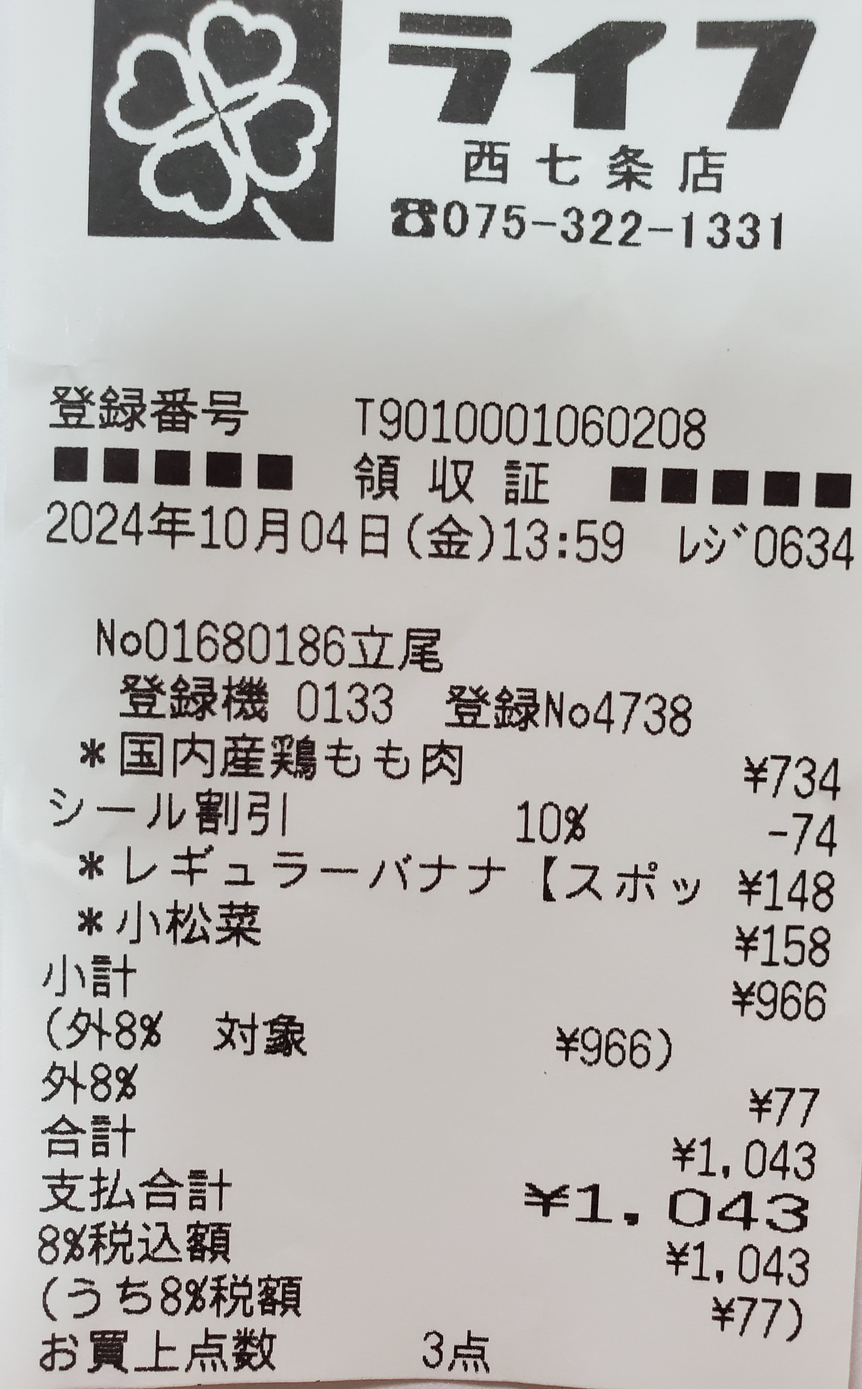Date: (38, 486, 400, 565)
Shopname: (367, 1, 832, 133)
Telnum: (440, 192, 807, 265)
Totalpay: (28, 1163, 832, 1233)
